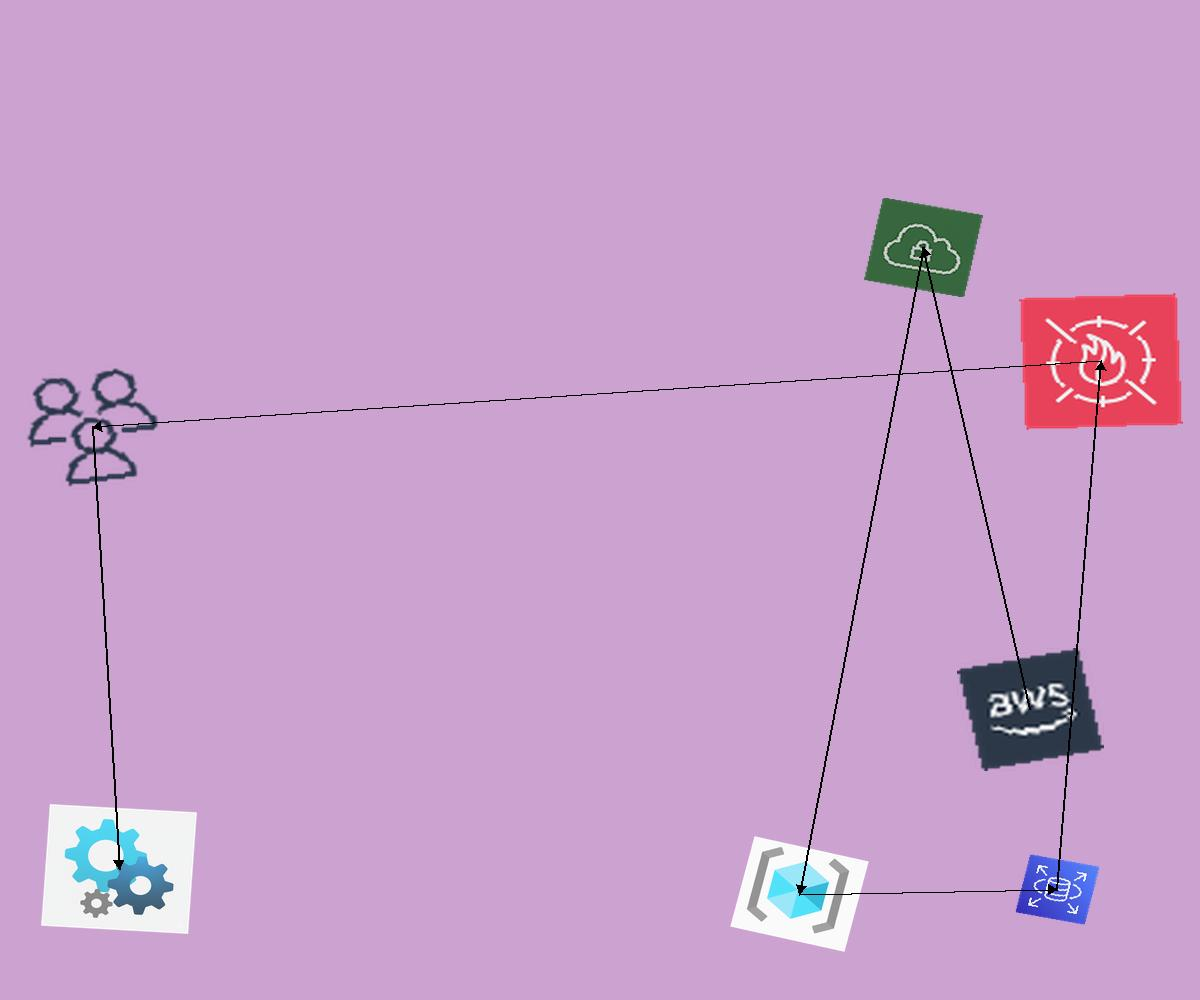AWS-Cloud-logo: (957, 648, 1104, 771)
AWS-Private_vpc: (863, 197, 984, 298)
AWS-RDS: (1015, 854, 1100, 925)
AWS-Res_Users: (10, 359, 175, 496)
AWS-WAF: (1019, 293, 1183, 430)
Azure_api: (41, 804, 197, 934)
Azure_resource_group: (730, 836, 869, 952)
